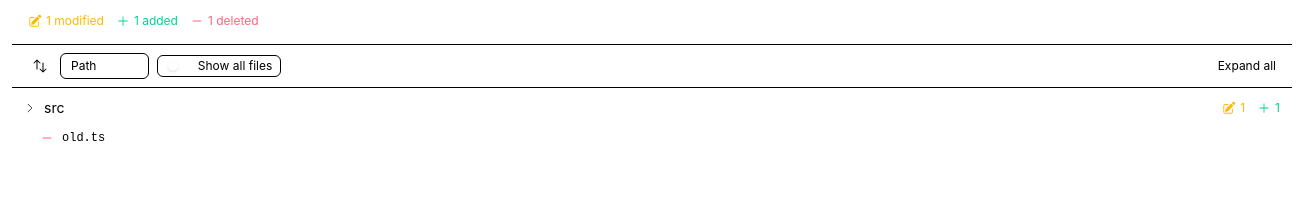
Test: CommitFileList › toggles show-all-files and switches to tree view
What coordinates should you click on to do the following:
click the switch labelled "Show all files"
I would click on:
 (219, 66)
Its box is [157,55,281,77].
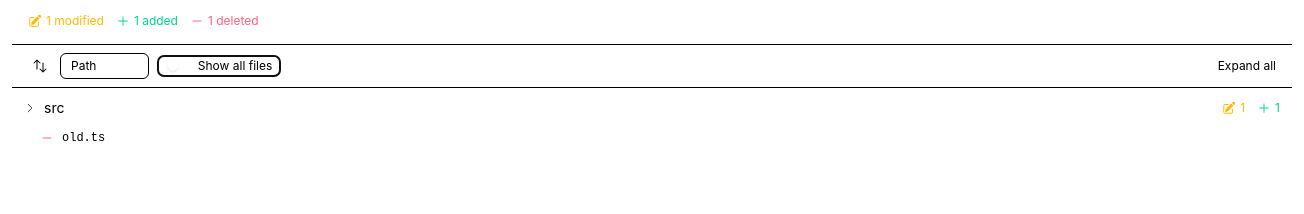
What coordinates should you click on to do the following:
click the button "Tree"
I would click on:
 (125, 66)
Its box is [104,56,146,76].
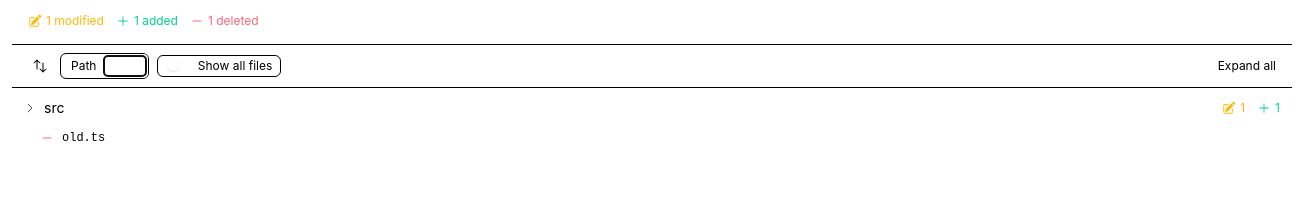
expect the button "Path" is shown: met, box [63,56,104,76]
What coordinates should you click on to do the following:
click the button "Expand all"
I would click on:
 (1247, 66)
Its box is [1218,58,1276,74].
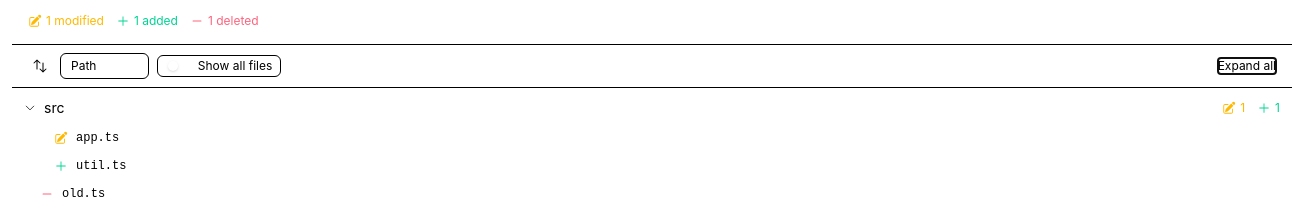
expect the text "util.ts" is shown: met, box [76,158,126,174]
